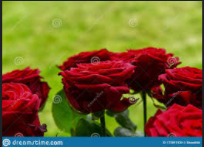RedRose: (58, 46, 134, 116), (123, 37, 176, 95)
